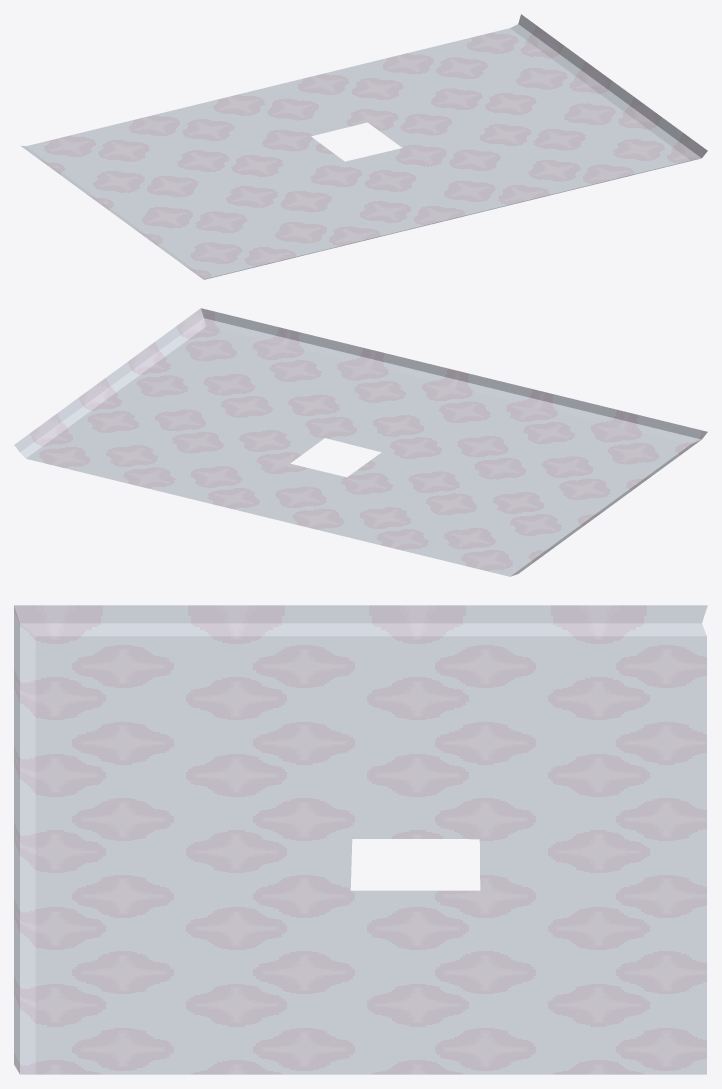
The model's file is kd_stage_135ded_4_57_exterior.glb.
3 views of the same model, one above another, from view 1: azimuth 30°, elevation 25°; view 2: azimuth 150°, elevation 25°; view 3: azimuth 270°, elevation 25° (orthographic). The views are drawn at different scales.
Visible parts, largest first — view 1: kd_stage_135ded_4_57_exterior; view 2: kd_stage_135ded_4_57_exterior; view 3: kd_stage_135ded_4_57_exterior.
Part boxes in pixels (x1=…): kd_stage_135ded_4_57_exterior: x1=21, y1=14, x2=707, y2=279; kd_stage_135ded_4_57_exterior: x1=14, y1=308, x2=707, y2=576; kd_stage_135ded_4_57_exterior: x1=14, y1=605, x2=707, y2=1074.
Size of the model in its own units: 1.06 by 0.0222 by 0.6749.
Materials: 1 (1 with a texture image).
